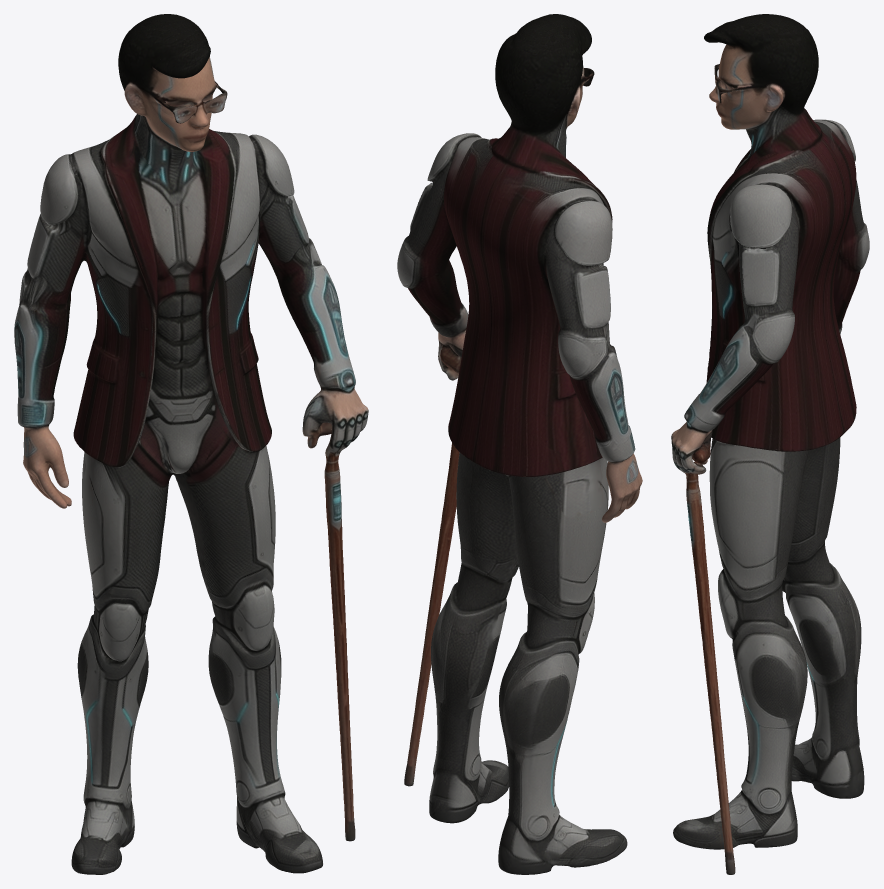
The model's file is estratega.glb.
3 views of the same model, side by side, from view 1: azimuth 30°, elevation 25°; view 2: azimuth 150°, elevation 25°; view 3: azimuth 270°, elevation 25° (orthographic). The views are drawn at different scales.
Size of the model in its own units: 0.6707 by 1.9 by 0.436.
1 material, 1 textured.
